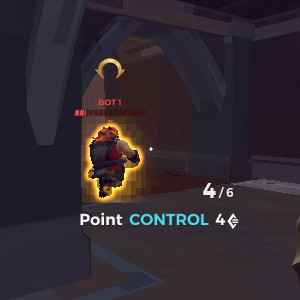model: (87, 122, 131, 198)
